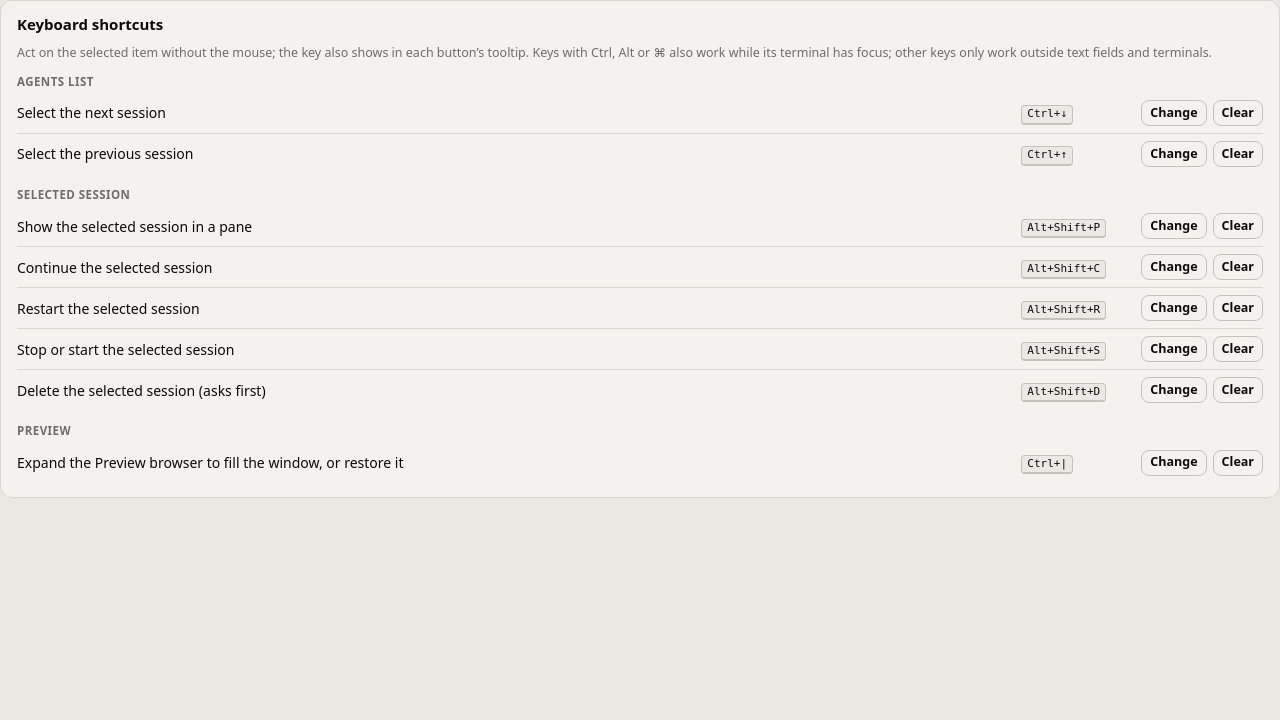
Test: KeyboardShortcutsPanel › refuses a key another action uses, and Escape cancels
Click the button "Change" in the row of "Continue the selected session" at (1174,267), box top-left (1141, 254), bottom-right (1207, 280)
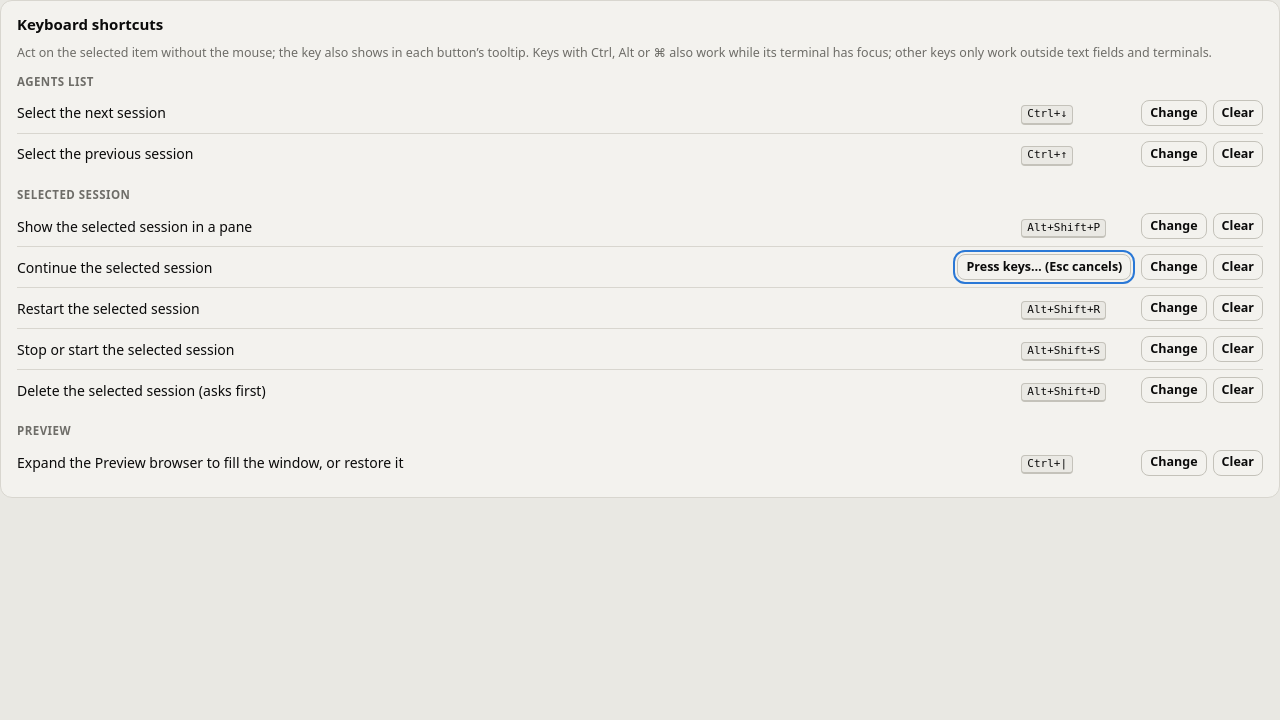
Press R in the button with aria-label "Press the new keys", box top-left (958, 254), bottom-right (1131, 280)
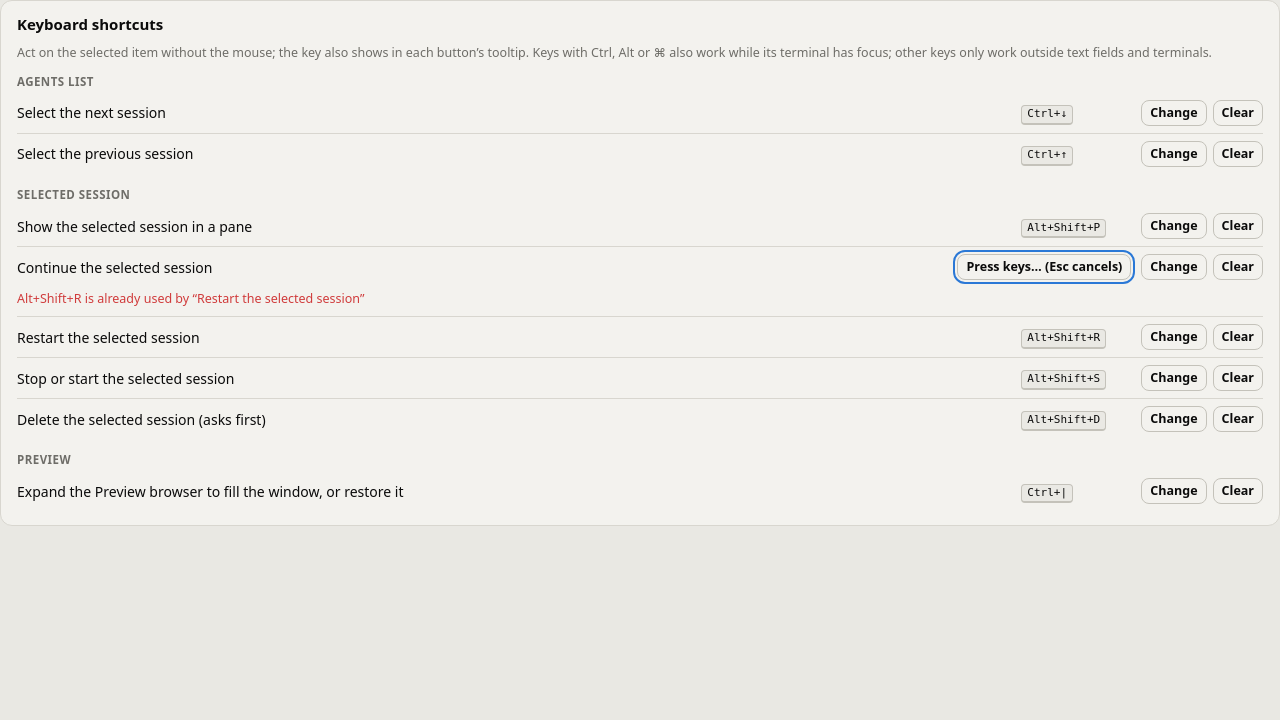
Expected: the message shows "already used by “Restart the selected", top-left (17, 290), bottom-right (364, 307)
Press Escape in the button with aria-label "Press the new keys", box top-left (958, 254), bottom-right (1131, 280)
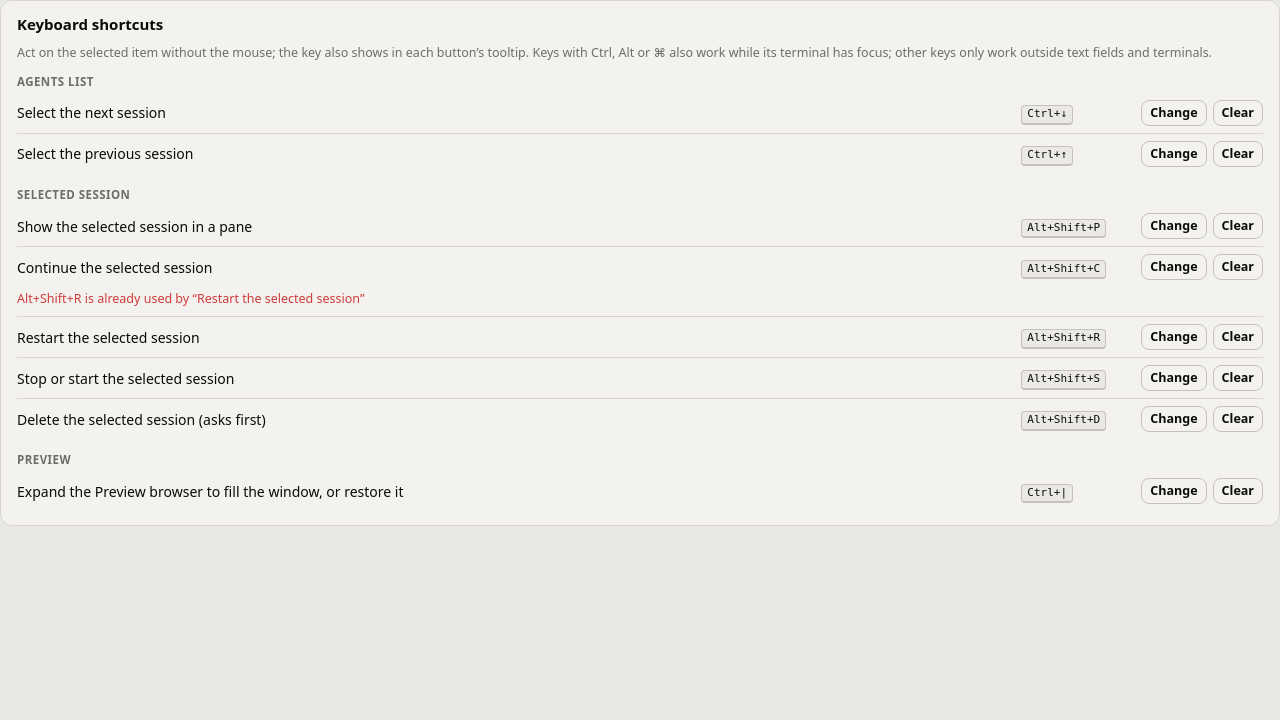
Expected: the text "Alt+Shift+C" is shown, top-left (1021, 260), bottom-right (1106, 279)
